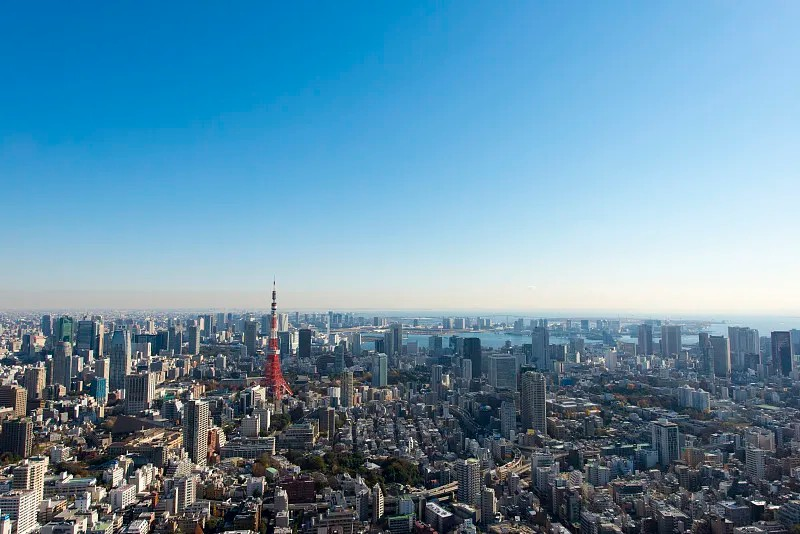Tokyo: (263, 272, 294, 402)
